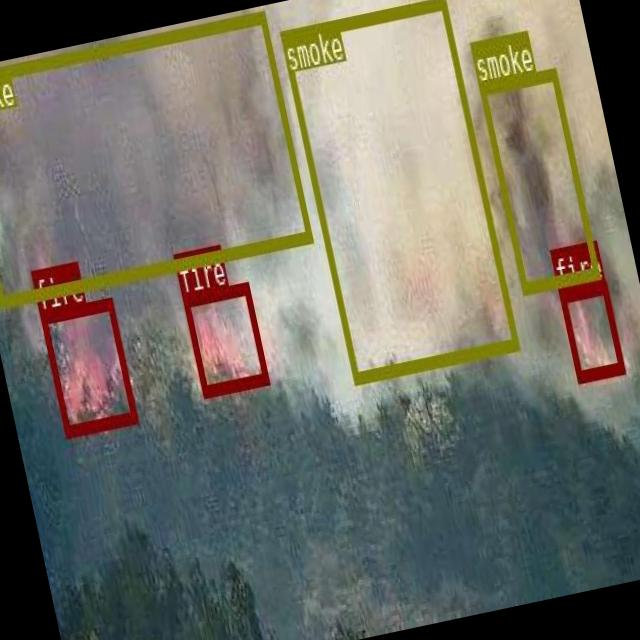fire: (38, 296, 136, 436), (180, 282, 268, 396), (557, 279, 624, 380)
smoke: (0, 9, 312, 305), (279, 0, 518, 382), (477, 66, 599, 292)
